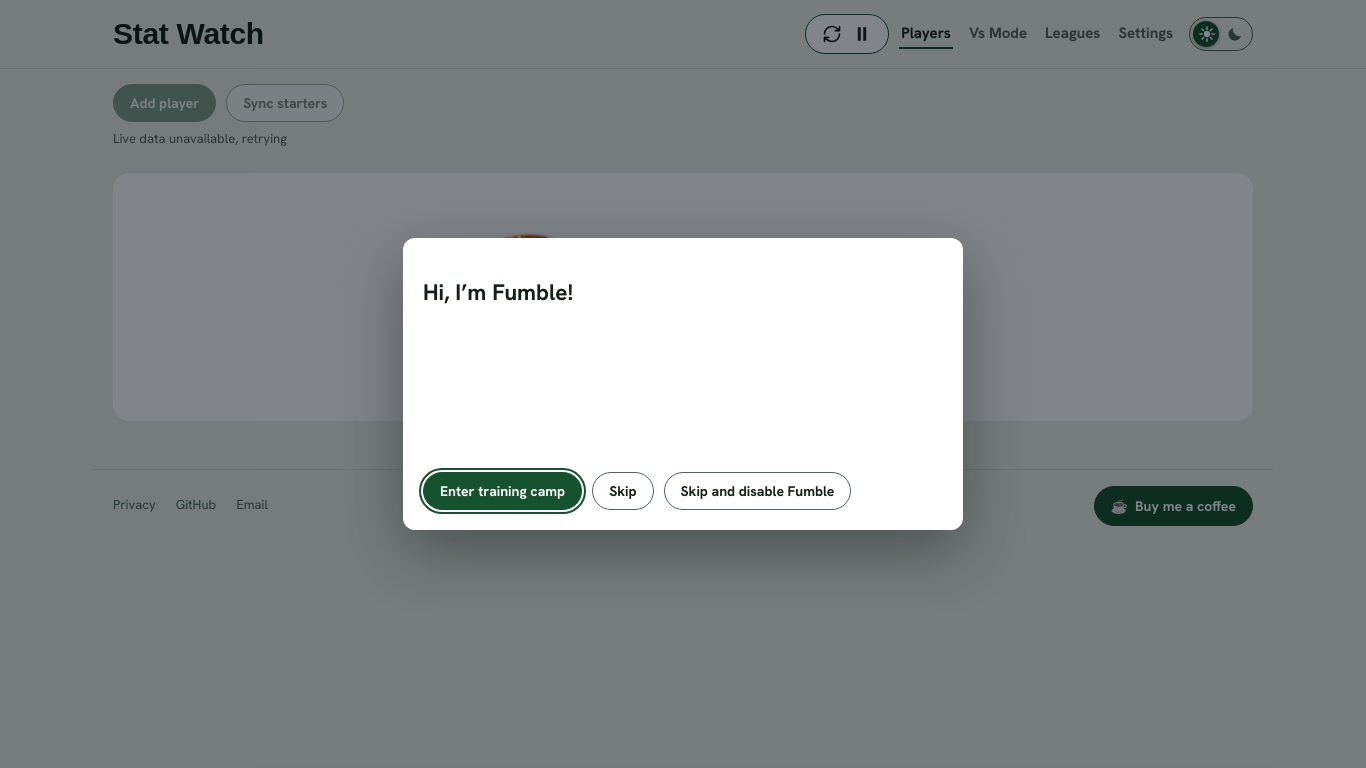
rookie camp › the welcome › starts the first drill when entering the camp, and the dialog is gone
Click the button "Enter training camp" at point(503, 492), box [423, 472, 582, 510]
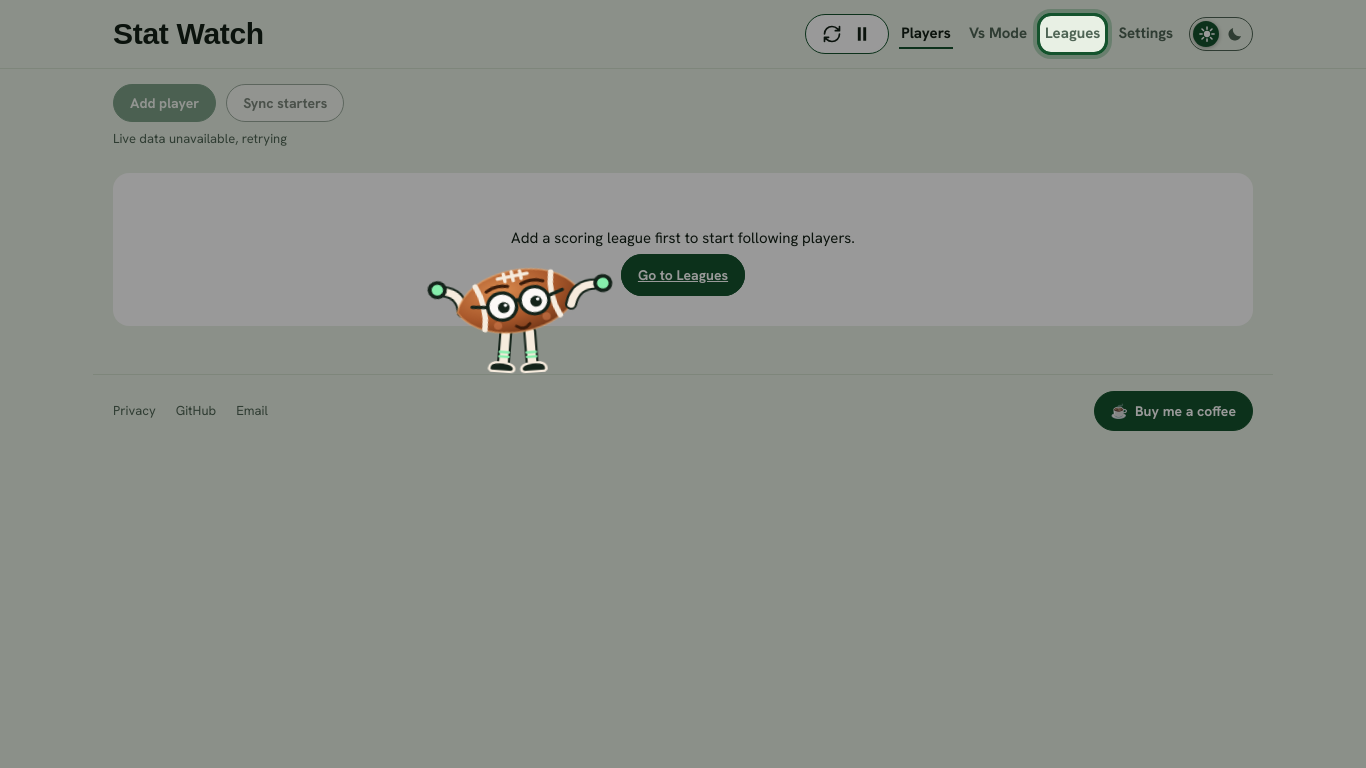
Expected: the heading "Hi, I’m Fumble!" is gone
